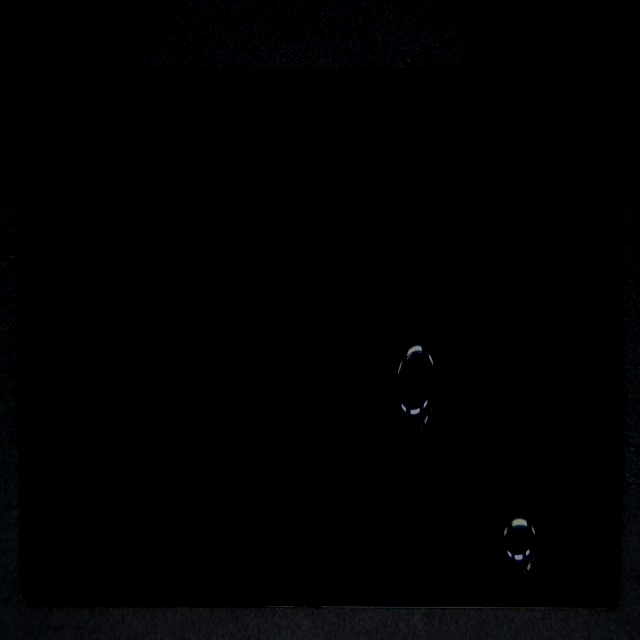oil: (229, 180, 639, 512), (286, 280, 640, 640)
